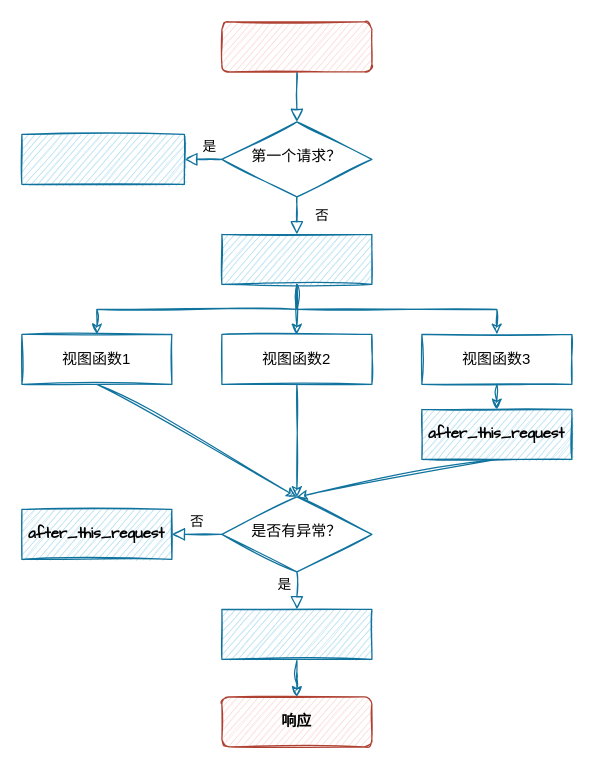
The diagram is 594 pixels wide and 769 high, and some of its shapes have lost their labels. Each missing label, with the box of its shape:
before_first_request: (21, 133, 184, 184)
before_request: (221, 233, 372, 284)
teardown_request: (221, 608, 372, 659)
请求: (221, 21, 372, 72)
